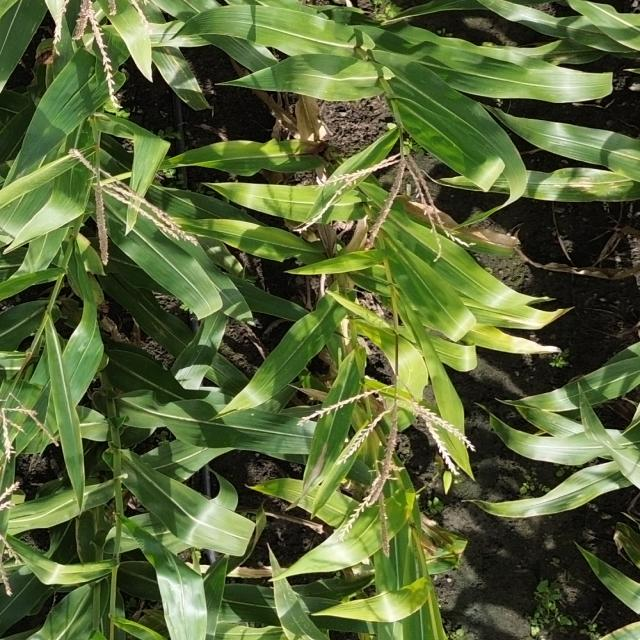gray-leaf-spot: (522, 157, 640, 220), (46, 134, 113, 228)
southern-leaf-blight: (242, 342, 321, 424), (268, 583, 355, 640)
